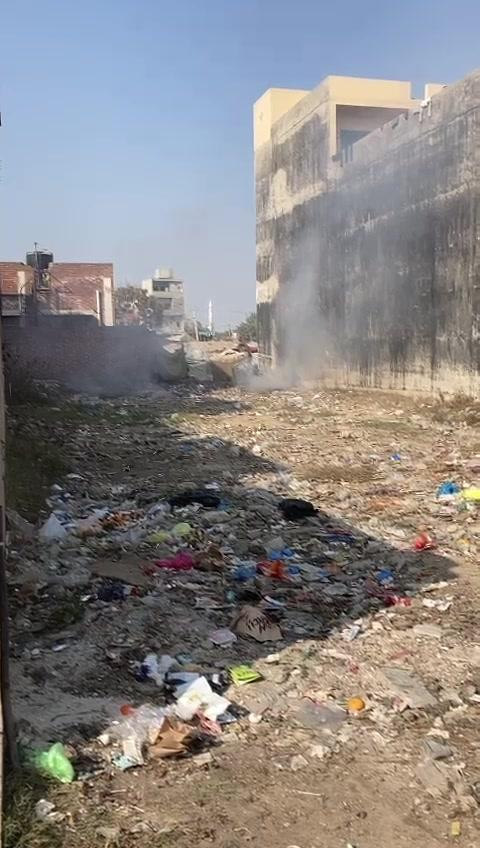garbage: (25, 396, 480, 823)
